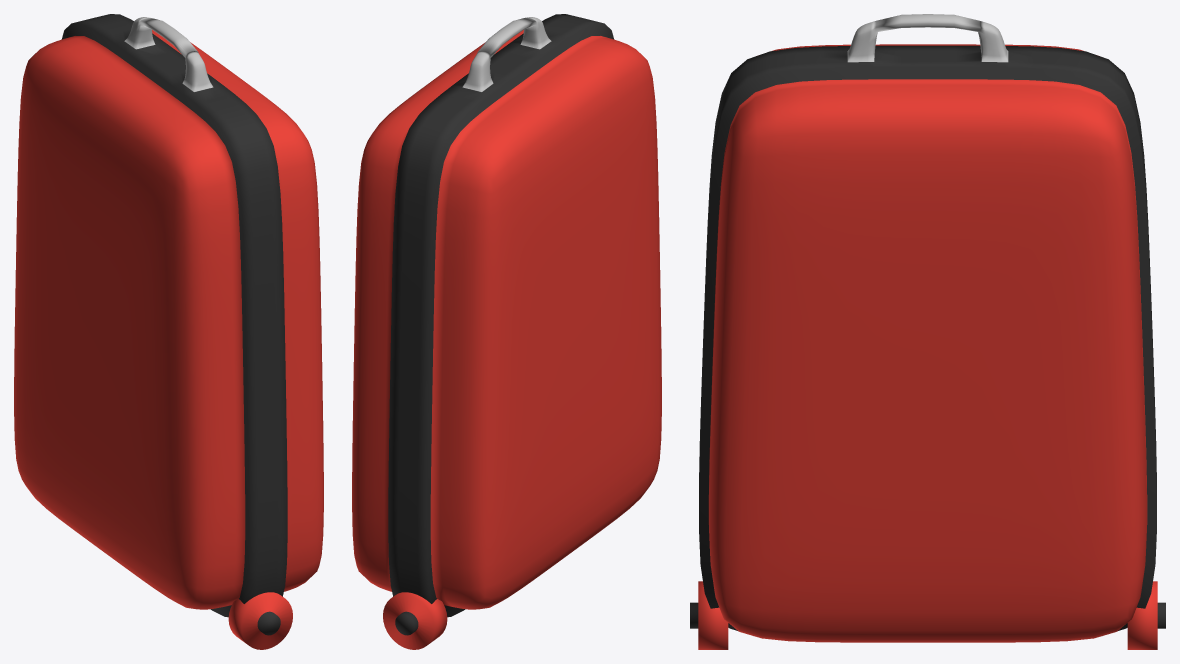
Rendered from SuitCaseSmallRed.fbx.
The picture shows the model from 3 angles, left to right: view 1: azimuth 30°, elevation 25°; view 2: azimuth 150°, elevation 25°; view 3: azimuth 270°, elevation 25°; orthographic projection. The views are drawn at different scales.
Parts seen in each view (by area): view 1: Cylinder.003; view 2: Cylinder.003; view 3: Cylinder.003.
Part boxes in pixels (x1=…): Cylinder.003: x1=14, y1=14, x2=323, y2=649; Cylinder.003: x1=352, y1=14, x2=661, y2=649; Cylinder.003: x1=690, y1=14, x2=1165, y2=649.
Size of the model in its own units: 30.46 by 107 by 72.71.
